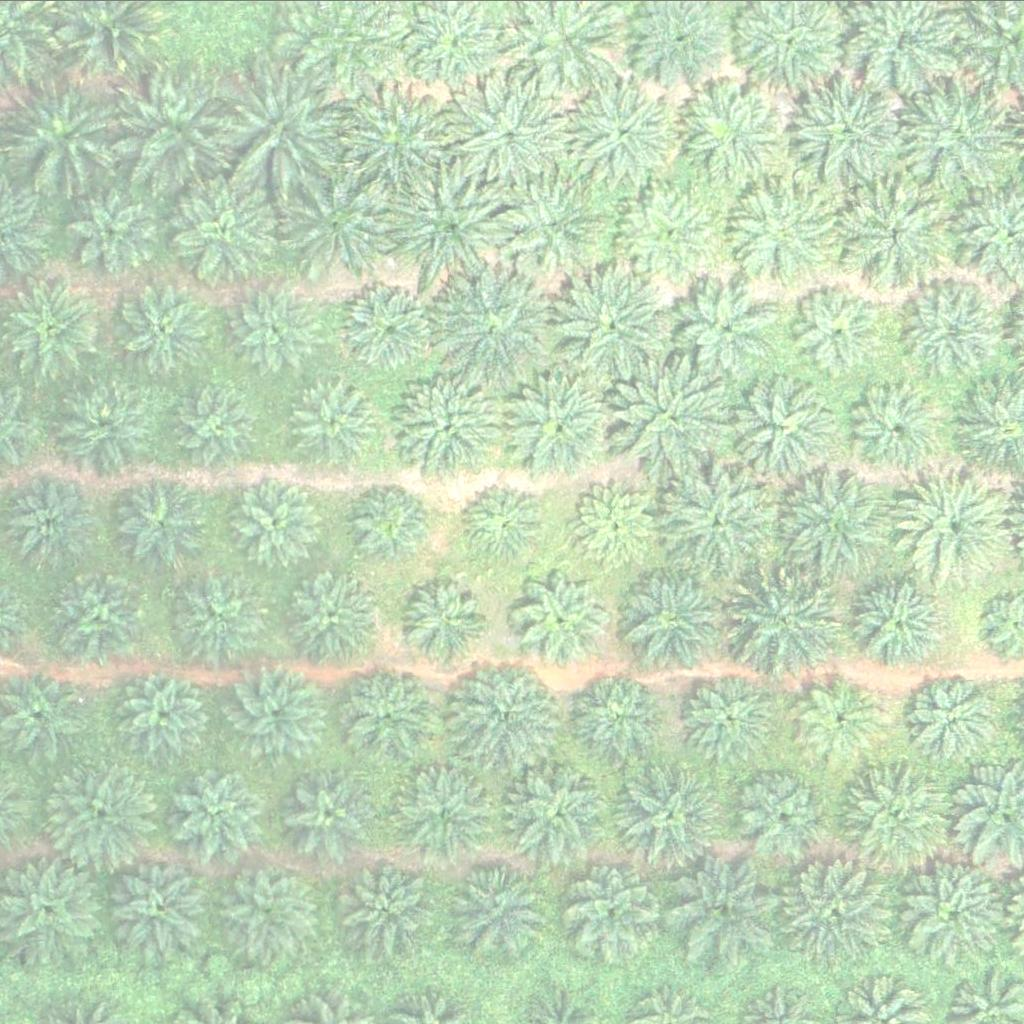Kelapa_Sawit: (118, 67, 232, 180), (225, 67, 339, 180), (502, 756, 616, 869), (448, 656, 562, 769), (618, 559, 732, 672), (731, 567, 845, 680), (43, 753, 156, 866), (101, 848, 214, 961), (783, 850, 896, 963), (902, 855, 1015, 968), (840, 561, 953, 674), (902, 469, 1015, 582), (391, 370, 504, 483), (507, 369, 620, 482), (440, 266, 553, 379), (558, 268, 671, 381), (730, 172, 843, 285), (839, 180, 952, 293), (340, 87, 453, 200), (907, 75, 1020, 188), (2, 83, 116, 195), (663, 462, 777, 574), (775, 465, 889, 577), (843, 368, 957, 480), (169, 172, 282, 284), (283, 165, 396, 277), (218, 655, 331, 767), (662, 851, 775, 963), (609, 758, 722, 870), (840, 761, 953, 873), (613, 361, 726, 473), (726, 367, 839, 479), (398, 170, 511, 282), (500, 168, 613, 280), (459, 79, 572, 191), (570, 78, 683, 190), (794, 73, 907, 185), (110, 276, 211, 376), (55, 375, 156, 475), (110, 471, 211, 571), (167, 566, 268, 666), (280, 565, 381, 665), (117, 665, 218, 765), (168, 762, 269, 862), (558, 861, 659, 961), (729, 764, 830, 864), (675, 280, 776, 380), (621, 184, 722, 284), (681, 84, 782, 184), (2, 279, 102, 379), (215, 858, 315, 958), (337, 858, 437, 958), (445, 853, 545, 953), (393, 761, 493, 861), (567, 667, 667, 767), (681, 667, 781, 767), (513, 570, 613, 670), (904, 277, 1004, 377), (231, 286, 319, 374), (348, 281, 436, 369), (173, 384, 261, 472), (913, 674, 1001, 762), (404, 575, 492, 663), (458, 477, 546, 565), (572, 480, 660, 568), (290, 378, 379, 465), (230, 478, 319, 565), (66, 187, 154, 274), (52, 572, 140, 659), (288, 770, 376, 857), (343, 670, 431, 757), (797, 675, 885, 762), (346, 480, 434, 567), (794, 284, 882, 371)
